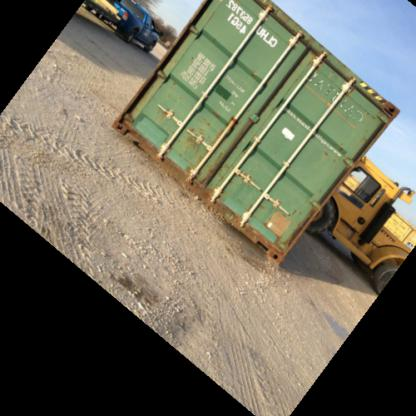Damage: (264, 206, 298, 260), (178, 125, 207, 167), (306, 72, 340, 100), (338, 100, 370, 122), (157, 101, 179, 127), (322, 148, 340, 162)
